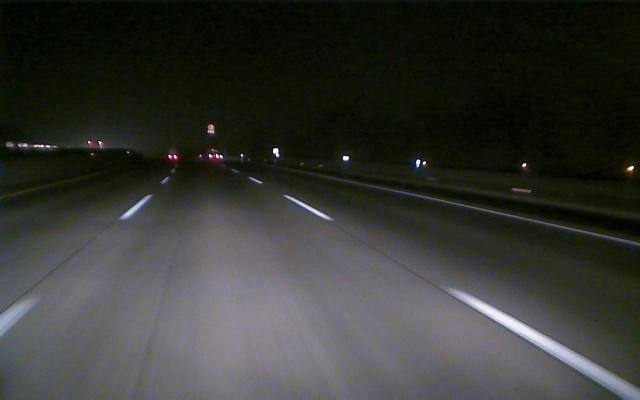lane: (282, 193, 636, 398), (1, 192, 154, 336), (405, 191, 640, 247)
